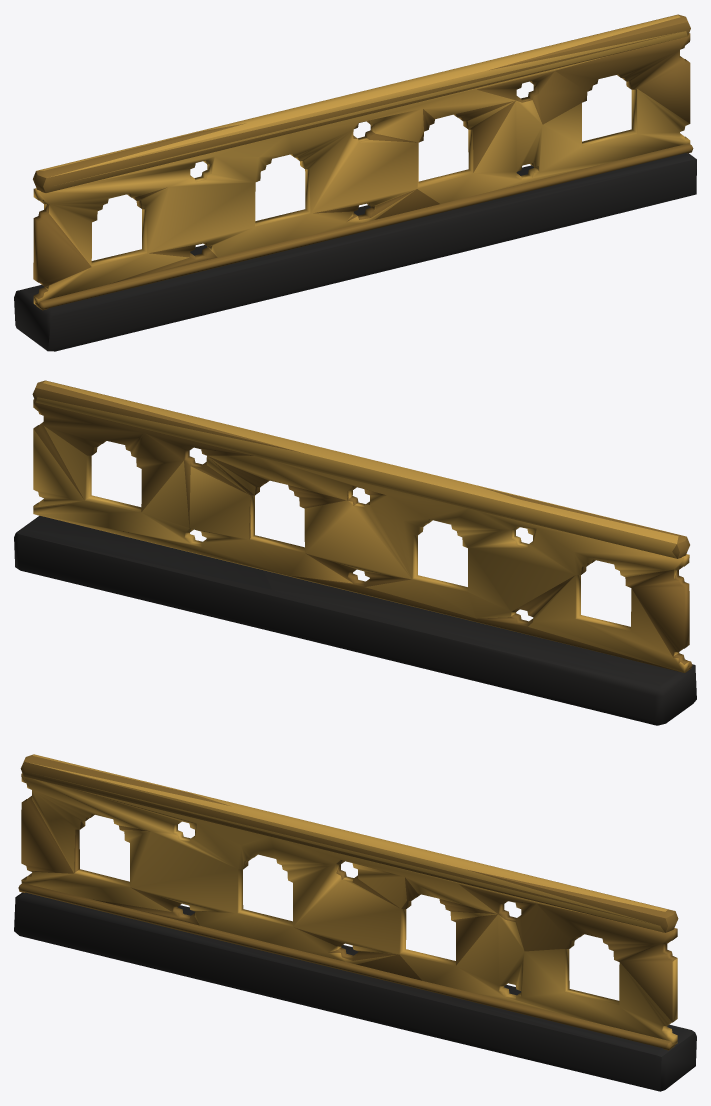
Rendered from ember_fender_b_lod2.glb.
3 renders of one model, top to bottom at view 1: azimuth 30°, elevation 25°; view 2: azimuth 150°, elevation 25°; view 3: azimuth 330°, elevation 25°, orthographic.
Visible parts, largest first — view 1: ember_fender_b.001; view 2: ember_fender_b.001; view 3: ember_fender_b.001.
Part boxes in pixels (box(x1,y1,x2,y2)): ember_fender_b.001: box(14, 14, 696, 351); ember_fender_b.001: box(14, 380, 696, 725); ember_fender_b.001: box(14, 754, 696, 1091).
Bounding box in the file's own units: 40.09 × 10.25 × 4.
